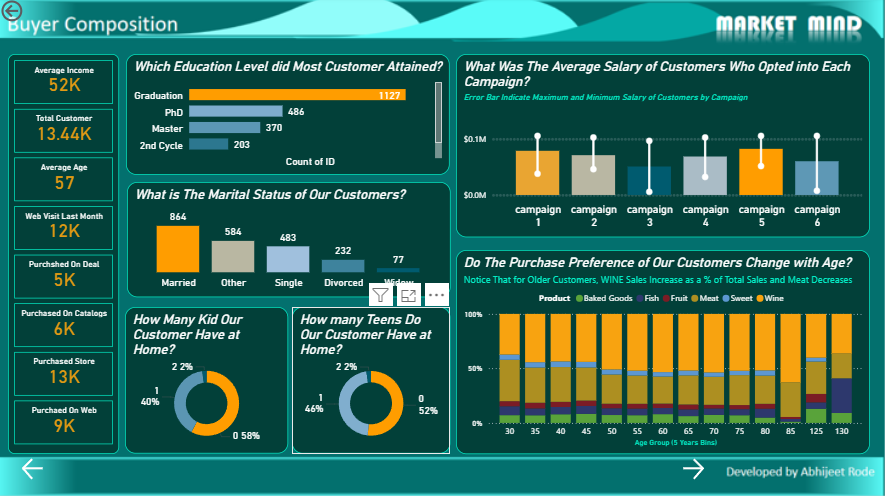

What the dashboard file says about the page in this screenshot:
{"tool":"powerbi","page":{"name":"Buyer Composition","canvas":[1280,720],"ordinal":2},"visuals":[{"type":"barChart","title":"Which Education Level did Most Customer Attained?","fields":{"Category":["marketmindz_research_data.Education"],"Y":["CountNonNull(marketmindz_research_data.ID)"]},"box":[184,82,466,174],"z":0},{"type":"columnChart","title":"What is The Marital Status of Our Customers?","fields":{"Category":["marketmindz_research_data.Marital_Status"],"Y":["CountNonNull(marketmindz_research_data.ID)"]},"box":[186,266,466,166],"z":1000},{"type":"donutChart","title":"How Many Kid Our Customer Have at Home?","fields":{"Category":["marketmindz_research_data.Kidhome"],"Y":["CountNonNull(marketmindz_research_data.ID)"]},"box":[183.3,446.4,235,211.4],"z":2000},{"type":"donutChart","title":"How many Teens Do Our Customer Have at Home?","fields":{"Y":["CountNonNull(marketmindz_research_data.ID)"],"Category":["marketmindz_research_data.Teenhome"]},"box":[422.7,446.4,227.6,211.4],"z":3000},{"type":"columnChart","title":"What Was The Average Salary of Customers Who Opted into Each Campaign?","fields":{"Category":["Income per campaign.Campaign"],"Y":["Avg(Income per campaign. Income )"]},"box":[660,82,596,264],"z":4000},{"type":"hundredPercentStackedColumnChart","title":"Do The Purchase Preference of Our Customers Change with Age?","fields":{"Y":["Sum(Products.Sales)"],"Series":["Products.Product"],"Category":["marketmindz_research_data.Age group"]},"box":[660,364,596,294],"z":5000},{"type":"cardVisual","fields":{"Data":["Avg(marketmindz_research_data. Income )","CountNonNull(Campaign.ID)","Avg(marketmindz_research_data.Age)","Sum(marketmindz_research_data.Web_Visit_last_month)","Sum(marketmindz_research_data.Purchshed_Deal)","Sum(marketmindz_research_data.Purchased_Catalogs)","Sum(marketmindz_research_data.Purchased_Store)","Sum(marketmindz_research_data.Purchaed_Web)"]},"box":[14,82,160,576],"z":6000},{"type":"actionButton","box":[0,0,100,40],"z":7000},{"type":"actionButton","box":[942.4,660.2,117.6,40.3],"z":8000},{"type":"actionButton","box":[0,660.2,100.8,40.3],"z":9000}]}

Visuals, with their boxes in screenshot pixels (x1, y1, x2, y2), scaled from the page's 1280x720 canvas onto the 885x496 screenshot:
"Which Education Level did Most Customer Attained?" barChart: box(127, 56, 449, 176)
"What is The Marital Status of Our Customers?" columnChart: box(129, 183, 451, 298)
"How Many Kid Our Customer Have at Home?" donutChart: box(127, 308, 289, 453)
"How many Teens Do Our Customer Have at Home?" donutChart: box(292, 308, 450, 453)
"What Was The Average Salary of Customers Who Opted into Each Campaign?" columnChart: box(456, 56, 868, 238)
"Do The Purchase Preference of Our Customers Change with Age?" hundredPercentStackedColumnChart: box(456, 251, 868, 453)
cardVisual - Avg(marketmindz_research_data. Income ) x CountNonNull(Campaign.ID): box(10, 56, 120, 453)
actionButton: box(0, 0, 69, 28)
actionButton: box(652, 455, 733, 483)
actionButton: box(0, 455, 70, 483)
